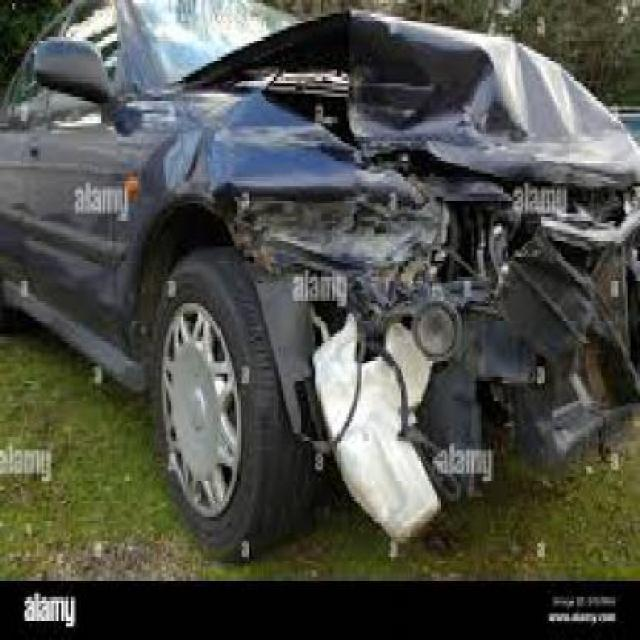damaged-hood: (186, 7, 640, 187)
